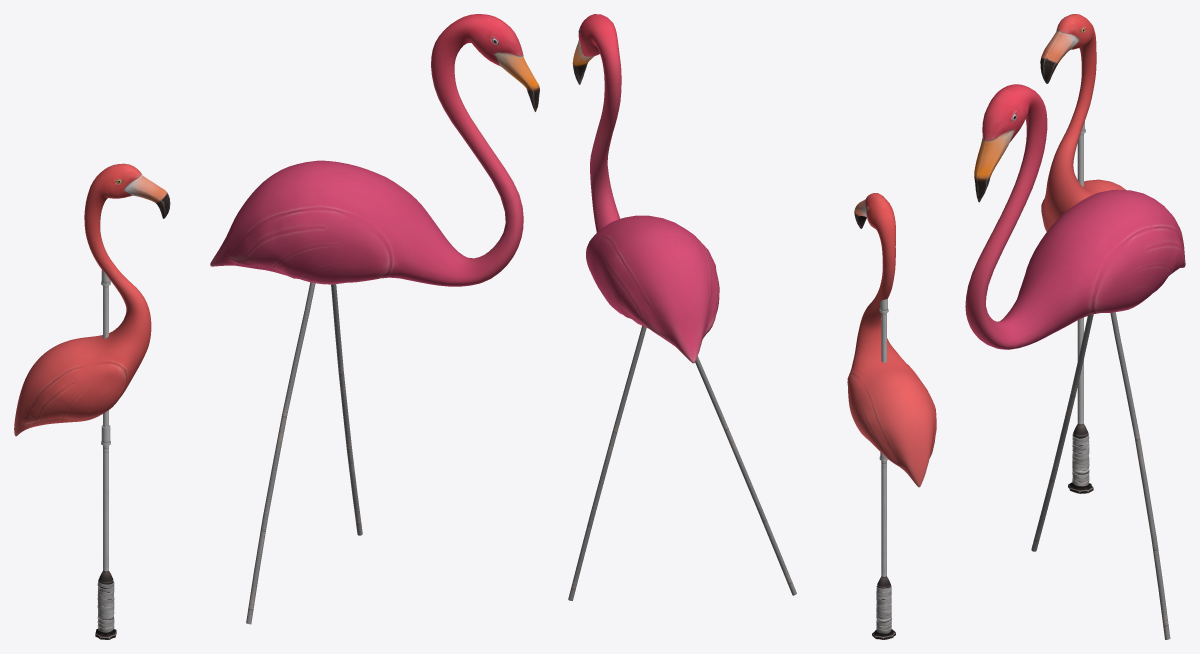
Rendered from Deco_flamingo_free.fbx.
3 renders of one model, left to right at view 1: azimuth 30°, elevation 25°; view 2: azimuth 150°, elevation 25°; view 3: azimuth 270°, elevation 25°, orthographic. The views are drawn at different scales.
Visible parts, largest first — view 1: Flamingo08, Flamingo01; view 2: Flamingo08, Flamingo01; view 3: Flamingo08, Flamingo01.
Part boxes in pixels (x1,y1,x2,y2): Flamingo08: (210, 14, 539, 624); Flamingo01: (14, 163, 170, 639); Flamingo08: (568, 14, 796, 600); Flamingo01: (847, 193, 936, 639); Flamingo08: (965, 84, 1185, 639); Flamingo01: (1040, 14, 1125, 493).
Size of the model in its own units: 153 by 183 by 63.54.
